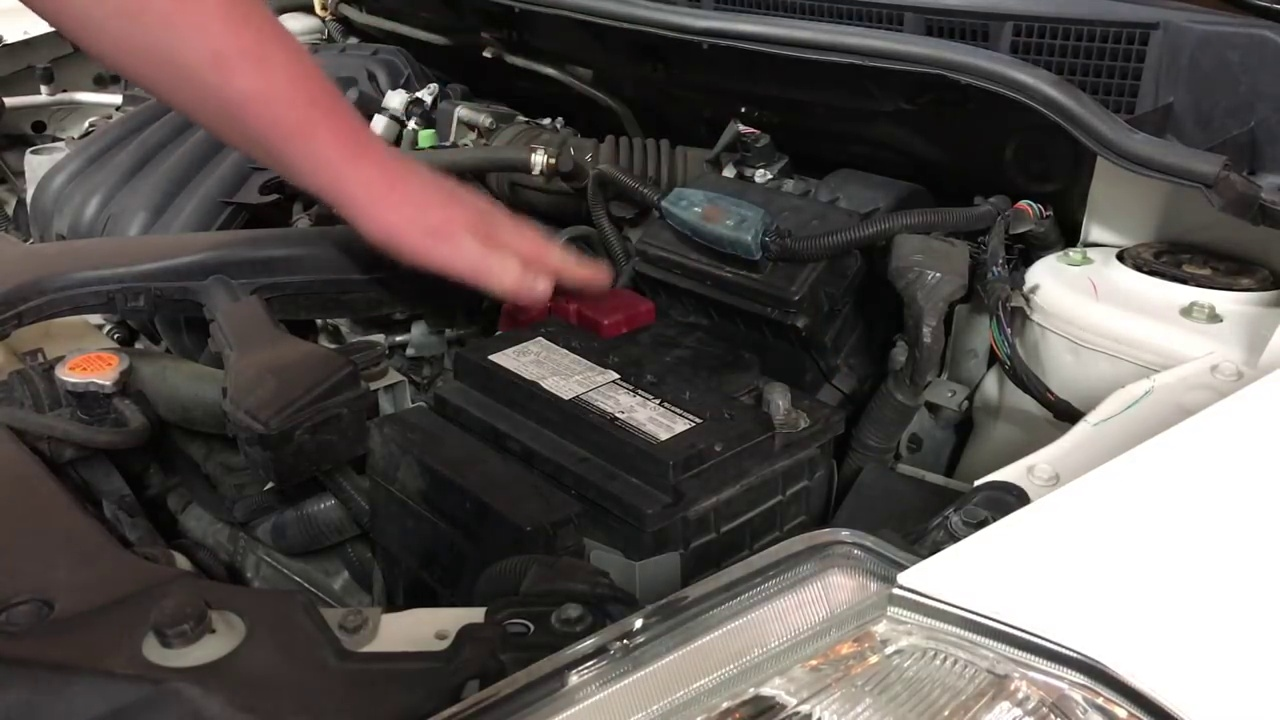battery: (444, 321, 832, 468)
neg_disconnected: (735, 357, 838, 443)
pos_touched: (486, 261, 653, 362)
